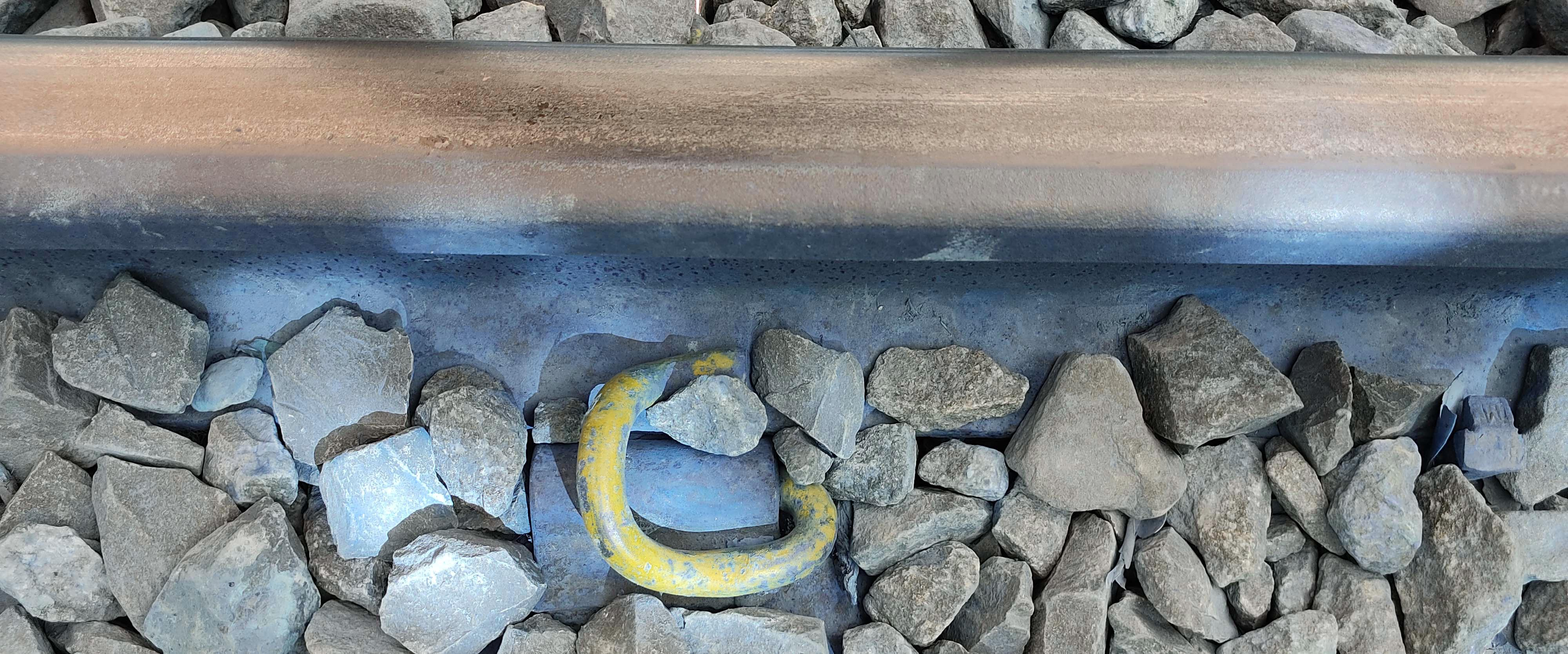Poor contact: (569, 327, 860, 590)
